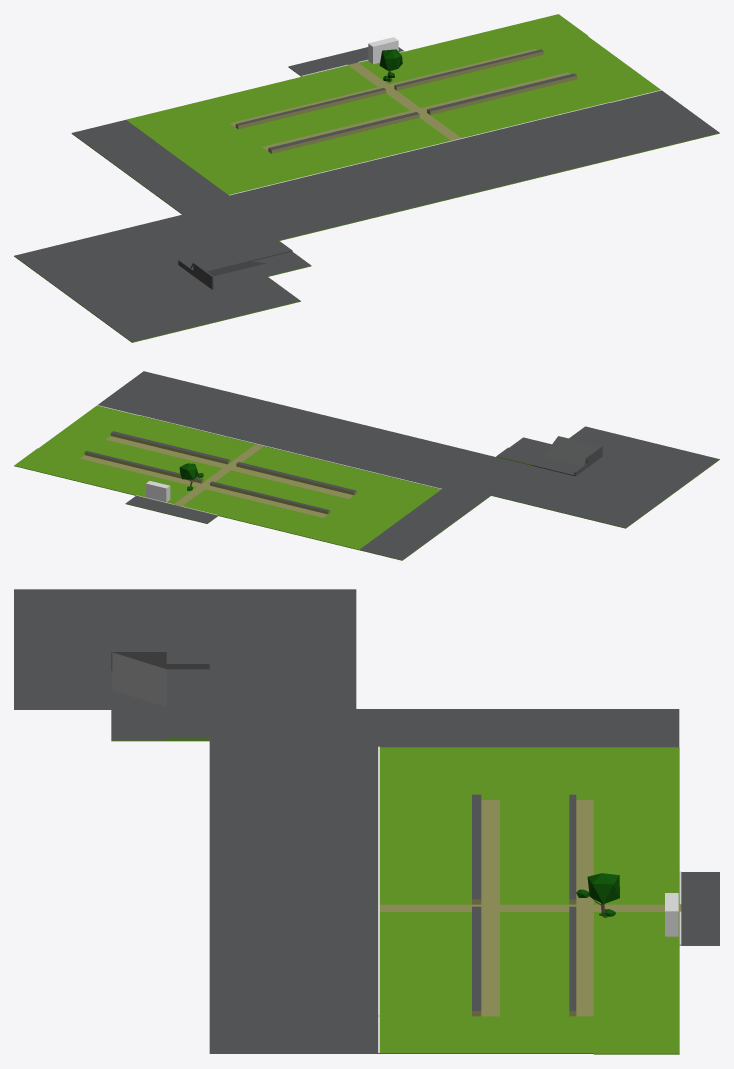
File: USV----nou.fbx
The picture shows the model from 3 angles, top to bottom: view 1: azimuth 30°, elevation 25°; view 2: azimuth 150°, elevation 25°; view 3: azimuth 270°, elevation 25°; orthographic projection. The views are drawn at different scales.
Parts seen in each view (by area): view 1: Cube; view 2: Cube, Cube.001; view 3: Cube, Icosphere.001.
Boxes of the visible parts, x1=… form: Cube: x1=14, y1=14, x2=719, y2=342; Cube: x1=14, y1=371, x2=719, y2=560; Cube.001: x1=146, y1=481, x2=170, y2=502; Cube: x1=14, y1=589, x2=719, y2=1054; Icosphere.001: x1=587, y1=873, x2=619, y2=903.
Bounding box in the file's own units: 25464 × 1186 × 16367.
